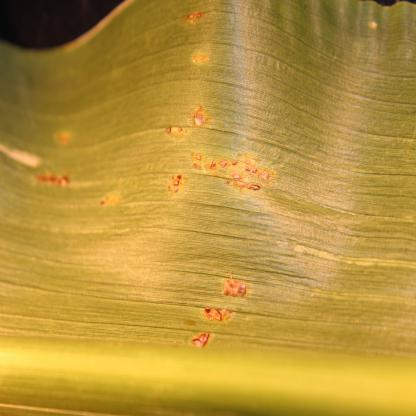corn rust leaf: (0, 2, 416, 406)
